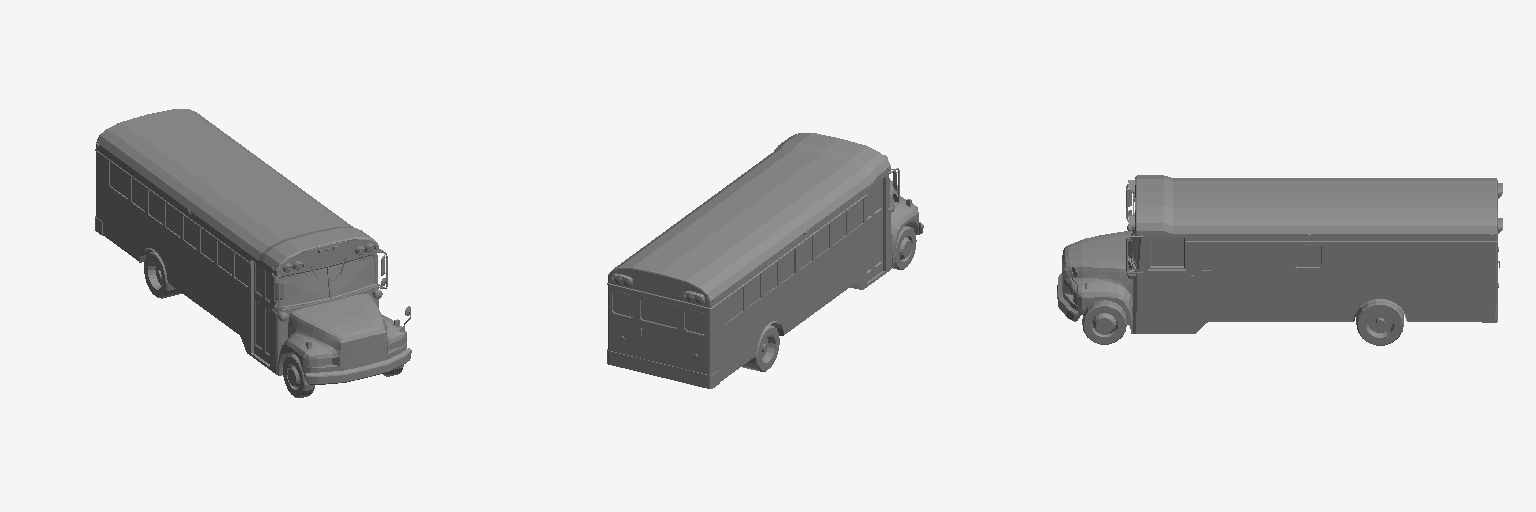
The model's file is schoolbus01_49.obj.
3 views of the same model, side by side, from view 1: azimuth 30°, elevation 25°; view 2: azimuth 150°, elevation 25°; view 3: azimuth 270°, elevation 25° (orthographic).
Parts seen in each view (by area): view 1: SchoolBus01, WheelBR, WheelFR; view 2: SchoolBus01, WheelBR, WheelFR; view 3: SchoolBus01, WheelBL, WheelFL.
Part boxes in pixels (left/top/right/bottom): SchoolBus01: left=95, top=109, right=411, bottom=384; WheelBR: left=144, top=252, right=182, bottom=298; WheelFR: left=283, top=354, right=314, bottom=397; SchoolBus01: left=607, top=133, right=923, bottom=388; WheelBR: left=742, top=325, right=779, bottom=371; WheelFR: left=893, top=226, right=916, bottom=269; SchoolBus01: left=1057, top=175, right=1502, bottom=333; WheelBL: left=1356, top=301, right=1403, bottom=345; WheelFL: left=1082, top=300, right=1126, bottom=344.
Size of the model in its own units: 259 by 287 by 886.